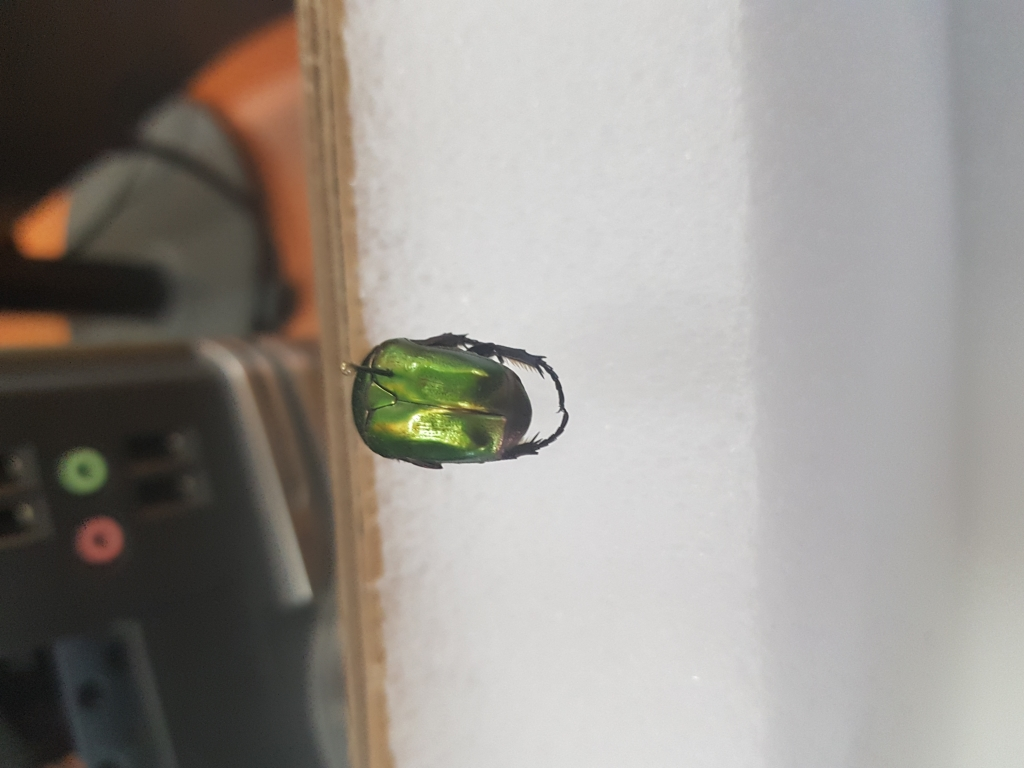Protaetia_cuprea_ignicollis: (336, 324, 582, 472)
